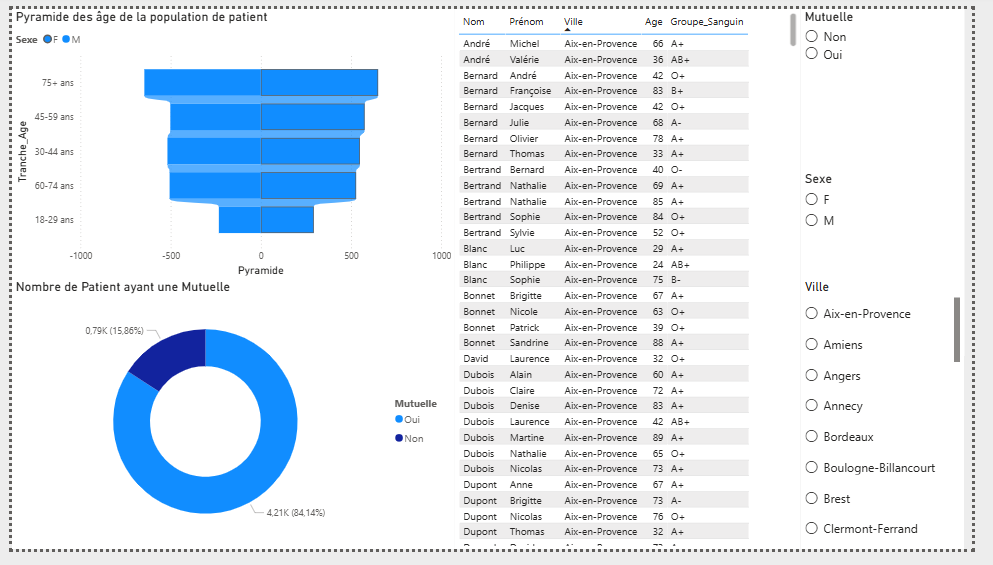

The page's visual inventory and layout, read from the dashboard file:
{"tool":"powerbi","page":{"name":"Analyse Patients","canvas":[1280,720],"ordinal":2},"visuals":[{"type":"barChart","title":"Pyramide des âge de la population de patient","fields":{"Category":["Patients.Tranche_Age"],"Series":["Patients.Sexe"],"Y":["Mesures.Pyramide"]},"box":[0,0,590,360],"z":0},{"type":"donutChart","title":"Nombre de Patient ayant une Mutuelle","fields":{"Category":["Patients.Mutuelle"],"Y":["CountNonNull(Patients.ID_Patient)"]},"box":[0,360,590,360],"z":1},{"type":"tableEx","fields":{"Values":["Patients.Nom","Patients.Prénom","Patients.Ville","Patients.Age","Patients.Groupe_Sanguin"]},"box":[590.8,0,461,720.5],"z":2},{"type":"listSlicer","fields":{"Values":["Patients.Mutuelle"]},"box":[1052,0,218,216],"z":3},{"type":"listSlicer","fields":{"Values":["Patients.Sexe"]},"box":[1052,216,218,246],"z":4},{"type":"listSlicer","fields":{"Values":["Patients.Ville"]},"box":[1051.8,359.3,217.5,359.3],"z":5}]}

Visuals, with their boxes in screenshot pixels (x1, y1, x2, y2), scaled from the page's 1280x720 canvas onto the 993x565 screenshot:
"Pyramide des âge de la population de patient" barChart: {"left": 0, "top": 0, "right": 458, "bottom": 282}
"Nombre de Patient ayant une Mutuelle" donutChart: {"left": 0, "top": 282, "right": 458, "bottom": 564}
tableEx - Patients.Nom x Patients.Prénom: {"left": 458, "top": 0, "right": 816, "bottom": 564}
listSlicer - Patients.Mutuelle: {"left": 816, "top": 0, "right": 985, "bottom": 170}
listSlicer - Patients.Sexe: {"left": 816, "top": 170, "right": 985, "bottom": 363}
listSlicer - Patients.Ville: {"left": 816, "top": 282, "right": 985, "bottom": 564}
